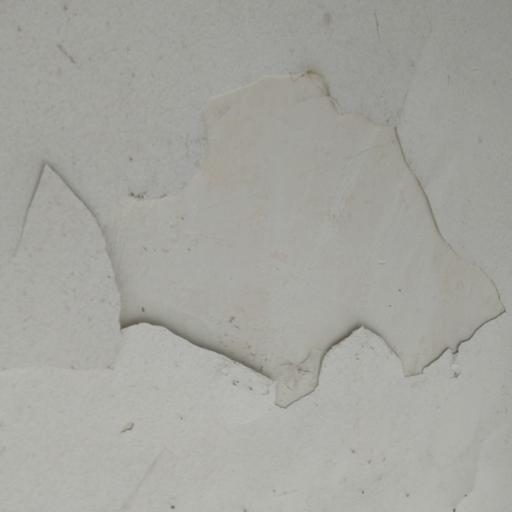peeling: (1, 60, 512, 419)
